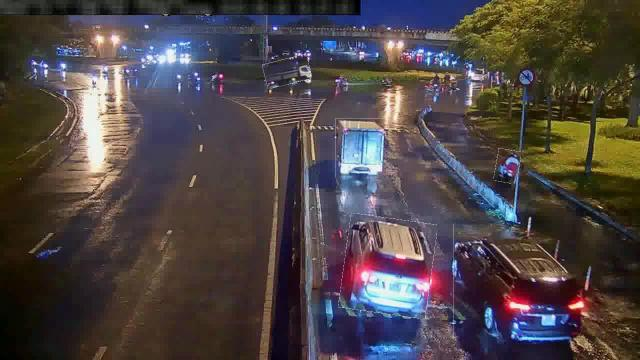Bike: (496, 149, 520, 183)
Bus: (336, 118, 384, 178)
Car: (453, 224, 589, 340), (342, 216, 434, 316)
Truck: (264, 57, 310, 87)
